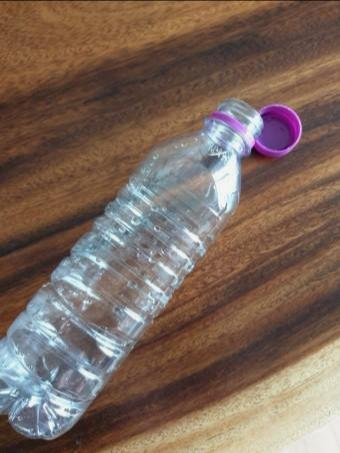bottle: (0, 96, 264, 440)
